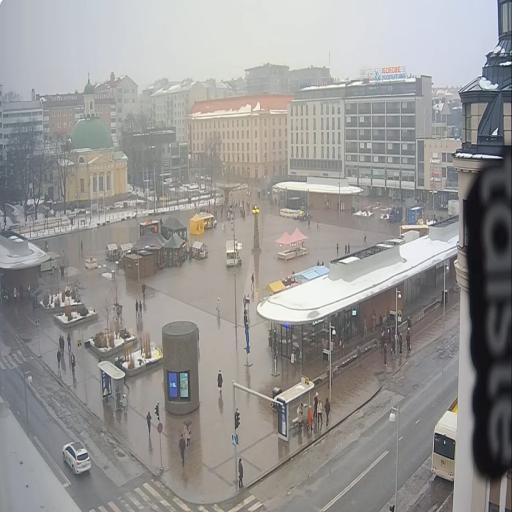Bus: (431, 407, 457, 481)
